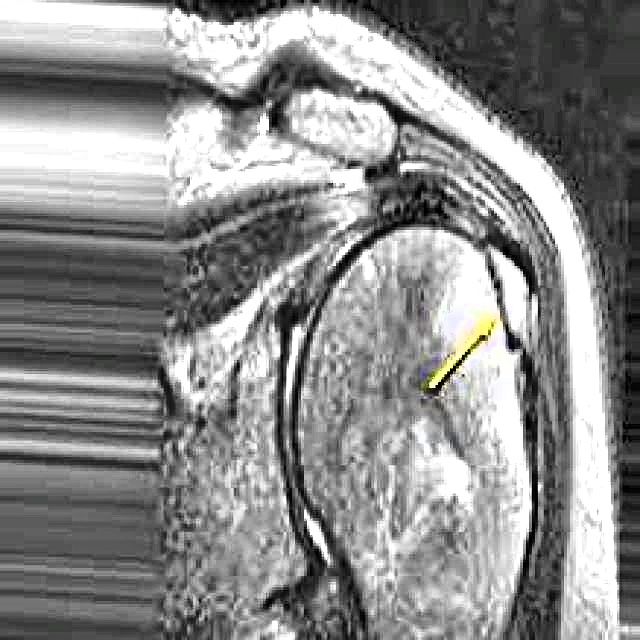Linear: (472, 236, 549, 387)
